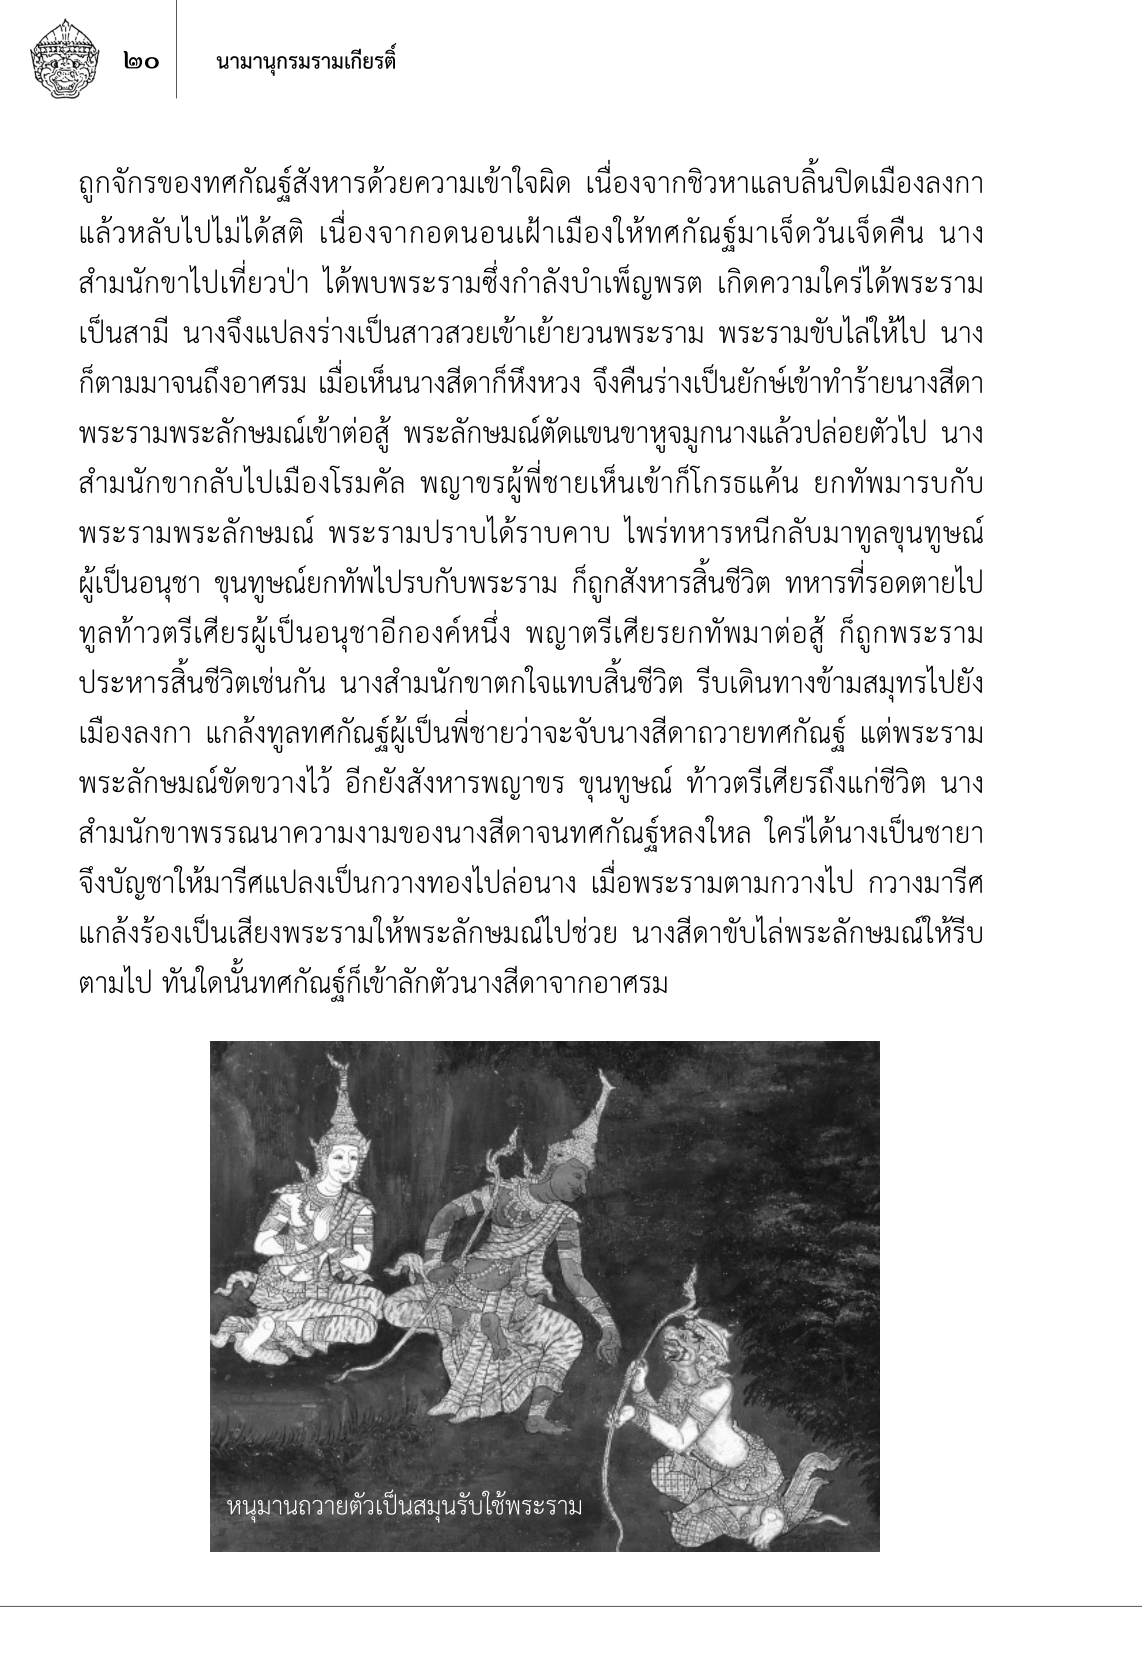thai: (77, 357, 987, 655), (77, 150, 987, 346), (77, 812, 987, 1005), (75, 654, 986, 808), (224, 1481, 585, 1525), (212, 35, 400, 79), (118, 44, 161, 75)
